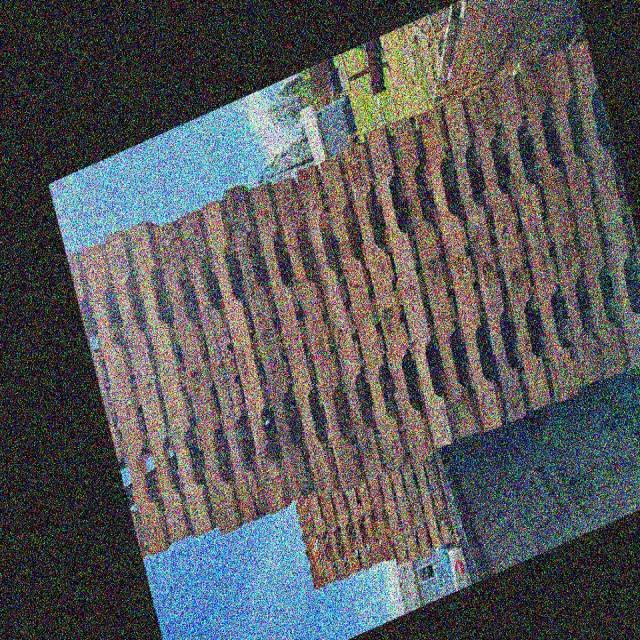non-igps: (377, 104, 489, 450), (332, 137, 441, 472), (485, 62, 589, 410), (456, 80, 563, 418), (359, 117, 464, 460), (408, 98, 512, 440), (266, 168, 373, 497), (242, 174, 347, 508), (509, 60, 613, 394), (434, 91, 536, 430), (218, 177, 322, 509), (290, 158, 392, 492), (195, 193, 298, 521), (171, 203, 273, 533), (148, 209, 248, 545), (99, 220, 200, 551), (313, 148, 413, 482), (536, 42, 632, 389), (76, 235, 176, 563), (125, 212, 224, 542), (54, 241, 153, 568), (557, 31, 640, 379), (419, 437, 461, 553), (386, 460, 426, 566), (410, 445, 448, 554), (397, 459, 436, 562), (301, 489, 341, 588), (293, 492, 332, 593), (326, 484, 366, 580), (315, 486, 354, 584), (376, 464, 412, 570), (351, 474, 389, 570), (363, 469, 400, 566), (340, 484, 376, 573)
